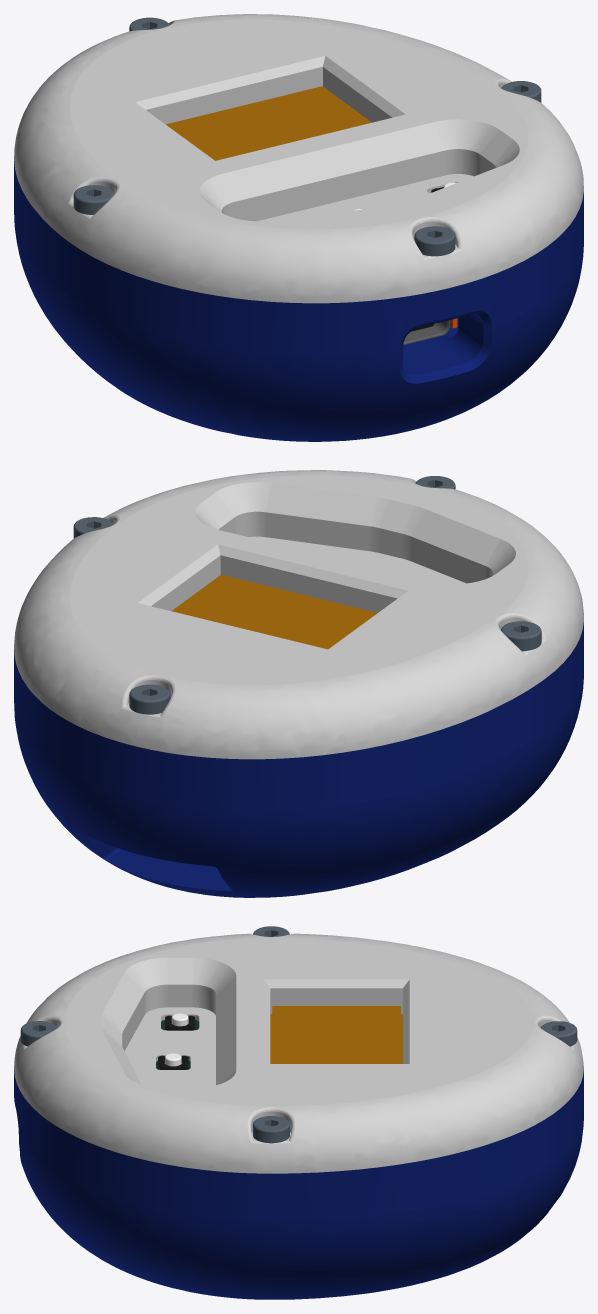
Rendered from tamagotchi.glb.
3 renders of one model, top to bottom at view 1: azimuth 30°, elevation 25°; view 2: azimuth 150°, elevation 25°; view 3: azimuth 270°, elevation 25°, orthographic. The views are drawn at different scales.
Visible parts, largest first — view 1: TopCase, BottomCase, OLED-TH_L27.8-W27.2-P2.54_C9900033791, Hex socket head cap screw M3x0.50 x 8, BOSS-EXTRUDE7_4_; view 2: TopCase, BottomCase, OLED-TH_L27.8-W27.2-P2.54_C9900033791, Hex socket head cap screw M3x0.50 x 8; view 3: TopCase, BottomCase, OLED-TH_L27.8-W27.2-P2.54_C9900033791, Hex socket head cap screw M3x0.50 x 8, SOLID.
Part boxes in pixels (x1,y1,x2,y2): TopCase: (14, 14, 583, 303); BottomCase: (14, 161, 583, 441); OLED-TH_L27.8-W27.2-P2.54_C9900033791: (166, 86, 371, 160); Hex socket head cap screw M3x0.50 x 8: (73, 17, 541, 256); BOSS-EXTRUDE7_4_: (403, 320, 449, 344); TopCase: (14, 470, 583, 759); BottomCase: (14, 623, 583, 897); OLED-TH_L27.8-W27.2-P2.54_C9900033791: (171, 574, 377, 649); Hex socket head cap screw M3x0.50 x 8: (73, 476, 541, 714); TopCase: (14, 933, 583, 1173); BottomCase: (14, 1070, 583, 1299); OLED-TH_L27.8-W27.2-P2.54_C9900033791: (270, 1006, 402, 1063); Hex socket head cap screw M3x0.50 x 8: (20, 926, 577, 1143); SOLID: (158, 1015, 195, 1069).
Bounding box in the file's own units: 0.0739 × 0.0353 × 0.0842.
